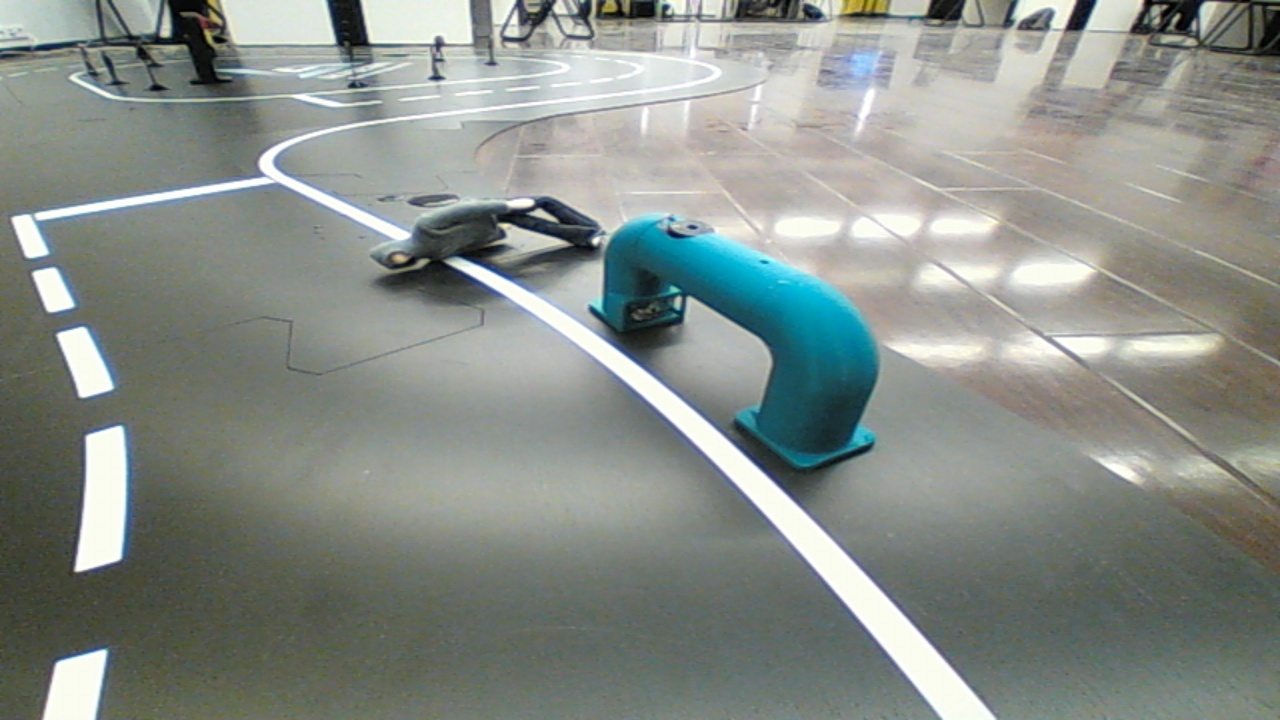Pedestrian crossing: (581, 197, 898, 486)
Road works: (358, 181, 622, 288)
